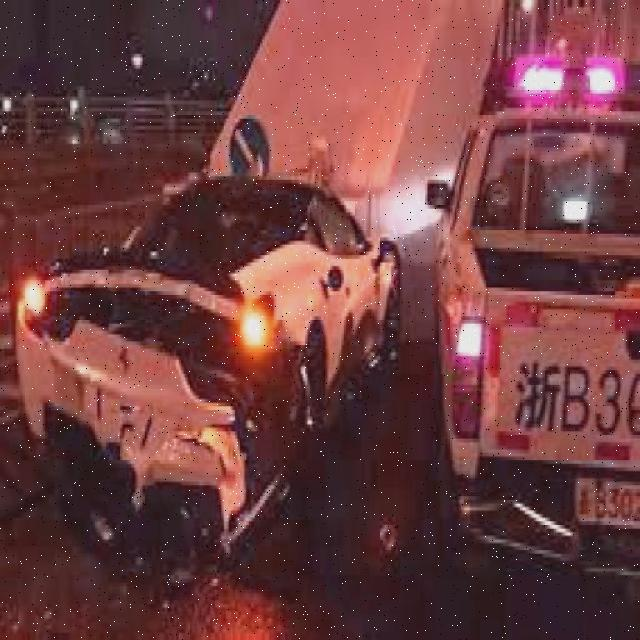car damage: (26, 262, 305, 533)
